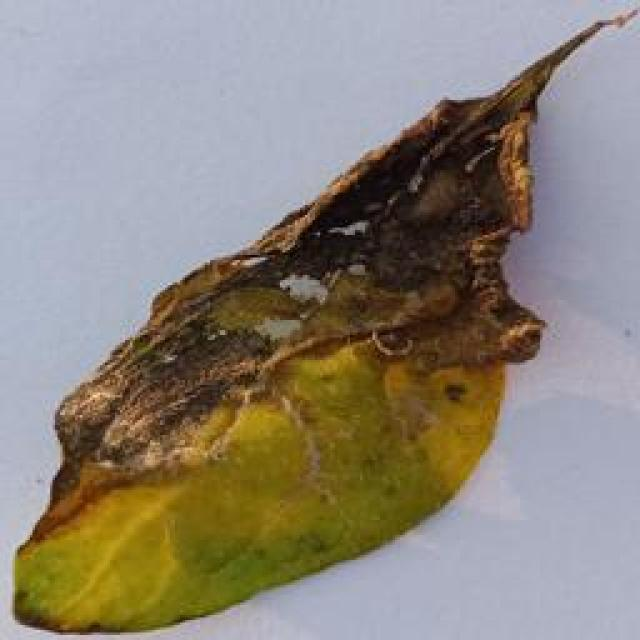Potato_Late_Blight: (3, 7, 633, 637)
